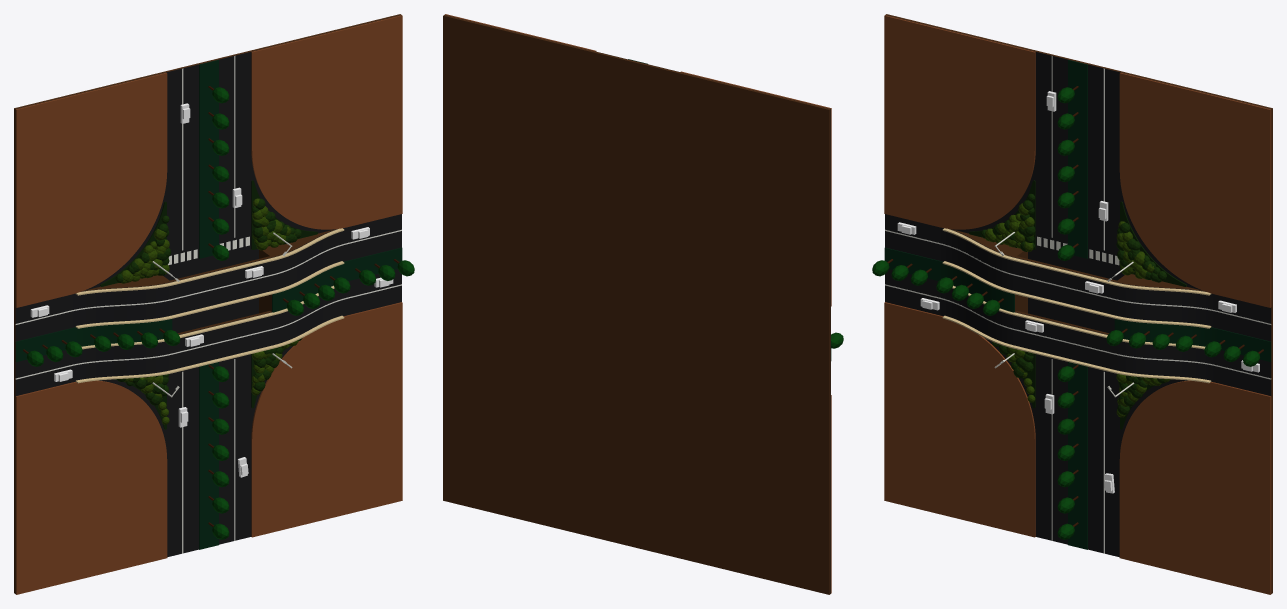
The model's file is maqueta_color.obj.
3 views of the same model, side by side, from view 1: azimuth 30°, elevation 25°; view 2: azimuth 150°, elevation 25°; view 3: azimuth 330°, elevation 25° (orthographic).
Visible parts, largest first — view 1: lote, asfalto, berma, copa, baranda, linea, arbusto, arbusto2, auto, base, terraplen, isla; view 2: base, lote, asfalto; view 3: lote, asfalto, berma, copa, baranda, linea, arbusto, arbusto2, auto, base, terraplen, isla.
Part boxes in pixels (<box>): lote: <box>15,15,402,594</box>; asfalto: <box>15,15,401,557</box>; berma: <box>15,60,402,549</box>; copa: <box>27,87,414,539</box>; baranda: <box>75,228,344,383</box>; linea: <box>15,56,401,553</box>; arbusto: <box>121,198,303,424</box>; arbusto2: <box>115,198,302,405</box>; auto: <box>30,103,393,477</box>; base: <box>14,14,401,593</box>; terraplen: <box>83,229,336,334</box>; isla: <box>100,180,317,429</box>; base: <box>443,15,830,594</box>; lote: <box>445,14,831,593</box>; asfalto: <box>446,15,830,593</box>; lote: <box>884,15,1271,594</box>; asfalto: <box>885,15,1271,557</box>; berma: <box>884,60,1271,549</box>; copa: <box>872,87,1259,539</box>; baranda: <box>942,228,1211,383</box>; linea: <box>885,56,1271,553</box>; arbusto: <box>985,203,1170,417</box>; arbusto2: <box>981,193,1166,414</box>; auto: <box>897,91,1259,493</box>; base: <box>885,14,1272,593</box>; terraplen: <box>950,229,1203,334</box>; isla: <box>969,180,1186,429</box>.
Size of the model in its own units: 500 by 600 by 72.16.
